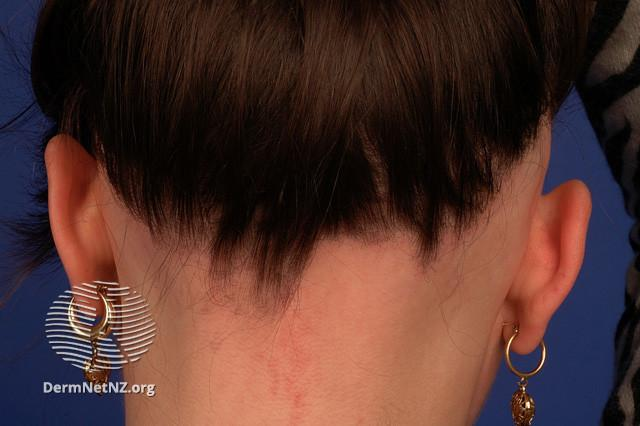Alopecia Areata: (286, 126, 547, 299), (104, 181, 268, 313)
